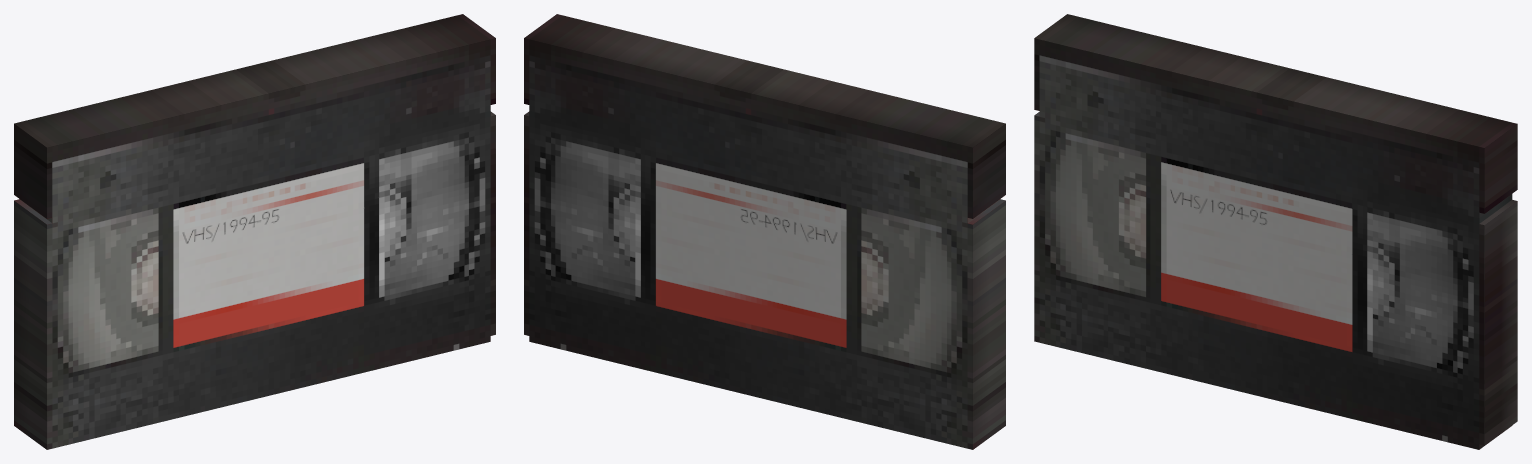
The model's file is vhs.obj.
3 views of the same model, side by side, from view 1: azimuth 30°, elevation 25°; view 2: azimuth 150°, elevation 25°; view 3: azimuth 330°, elevation 25° (orthographic).
Visible parts, largest first — view 1: tape1_2, tape1_0, tape1_3, tape1_4, tape1_1; view 2: tape1_2, tape1_0, tape1_3, tape1_4, tape1_1; view 3: tape1_2, tape1_0, tape1_4, tape1_1, tape1_3.
Boxes of the visible parts, <box> form: tape1_2: <box>19,111,490,448</box>; tape1_0: <box>14,15,490,218</box>; tape1_3: <box>14,199,52,449</box>; tape1_4: <box>490,111,495,335</box>; tape1_1: <box>458,14,495,104</box>; tape1_2: <box>529,111,1000,448</box>; tape1_0: <box>529,15,1005,218</box>; tape1_3: <box>967,199,1005,449</box>; tape1_4: <box>524,111,529,335</box>; tape1_1: <box>524,14,561,104</box>; tape1_2: <box>1039,111,1512,449</box>; tape1_0: <box>1034,14,1511,218</box>; tape1_4: <box>1479,200,1517,445</box>; tape1_1: <box>1479,122,1517,213</box>; tape1_3: <box>1034,112,1039,342</box>.
Size of the model in its own units: 1 by 0.6434 by 0.1274.
1 material, 1 textured.
